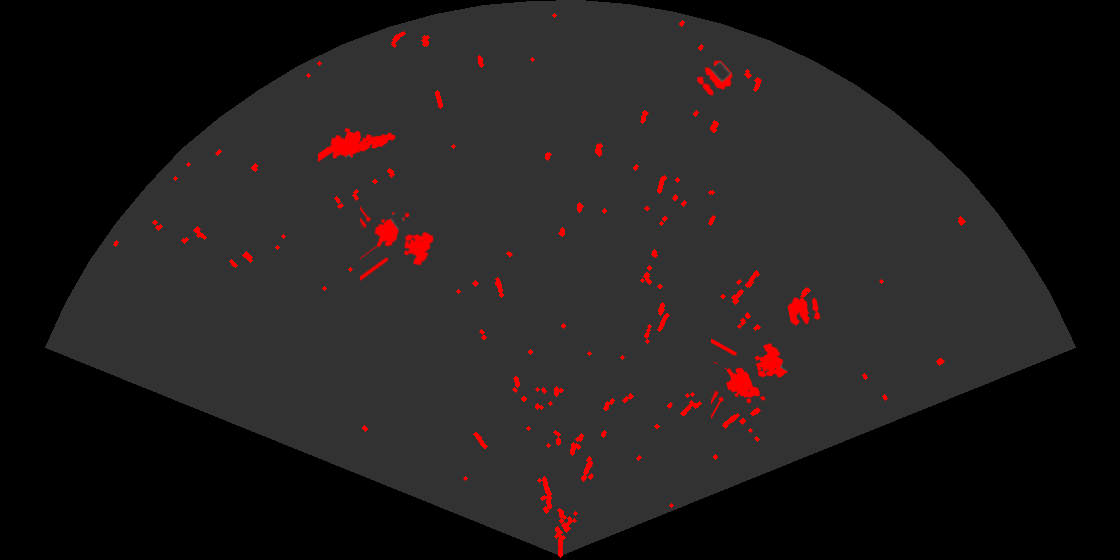ball: (695, 59, 734, 97), (786, 296, 822, 327)
cage: (711, 337, 789, 420), (360, 204, 435, 283)
frogman: (318, 127, 397, 163)
